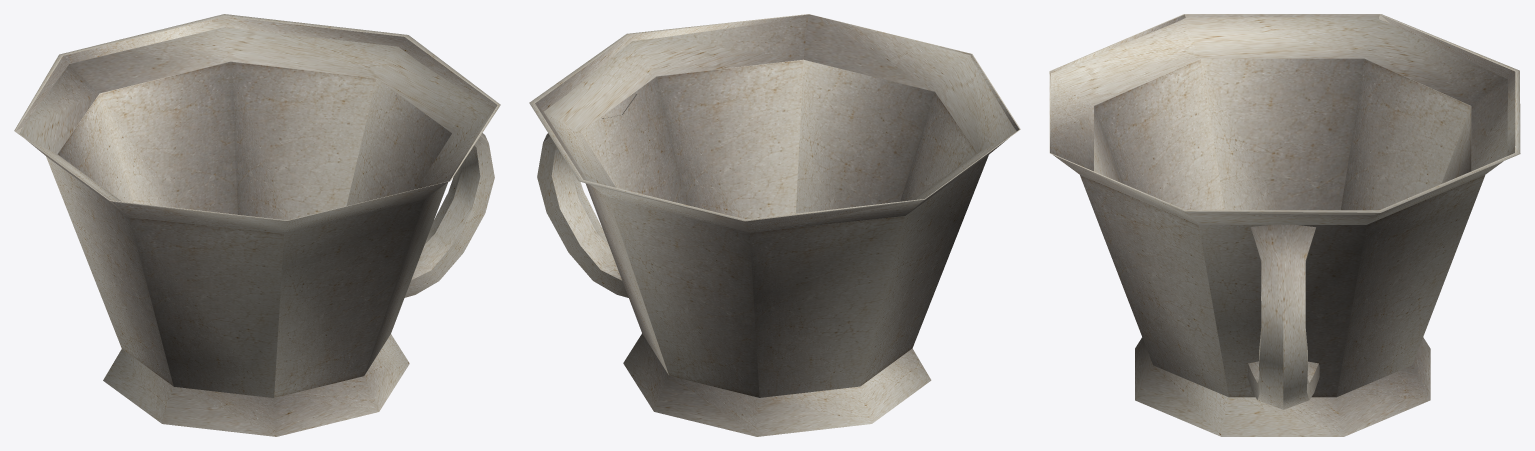
The model's file is mm9_deco_cup02.glb.
3 renders of one model, left to right at view 1: azimuth 30°, elevation 25°; view 2: azimuth 150°, elevation 25°; view 3: azimuth 270°, elevation 25°, orthographic. The views are drawn at different scales.
Visible parts, largest first — view 1: Cup02; view 2: Cup02; view 3: Cup02.
Boxes of the visible parts, left/top/right/bottom form: Cup02: left=14, top=14, right=500, bottom=436; Cup02: left=529, top=14, right=1020, bottom=436; Cup02: left=1049, top=14, right=1520, bottom=436.
Bounding box in the file's own units: 0.2831 × 0.1596 × 0.2597.
1 material, 1 textured.
